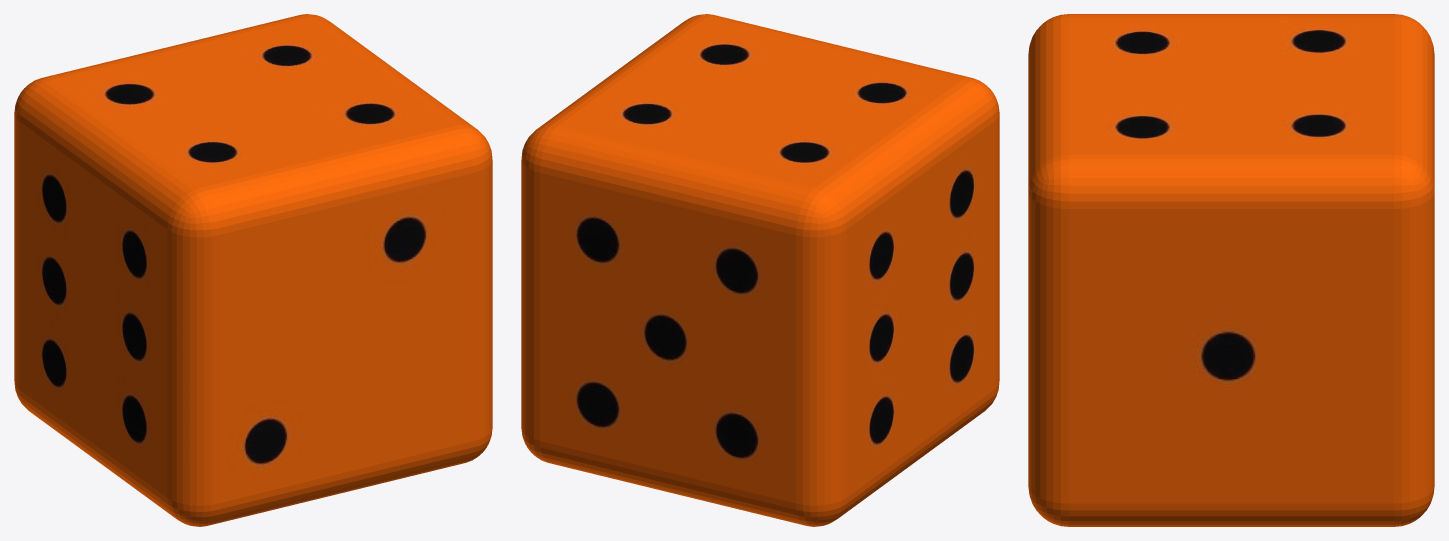
Rendered from dice.glb.
3 views of the same model, side by side, from view 1: azimuth 30°, elevation 25°; view 2: azimuth 150°, elevation 25°; view 3: azimuth 270°, elevation 25° (orthographic). The views are drawn at different scales.
Visible parts, largest first — view 1: Cube; view 2: Cube; view 3: Cube.
Boxes of the visible parts, left/top/right/bottom form: Cube: left=14, top=14, right=492, bottom=526; Cube: left=521, top=14, right=999, bottom=526; Cube: left=1028, top=14, right=1434, bottom=526.
Size of the model in its own units: 2 by 2 by 2.
1 material, 1 textured.
